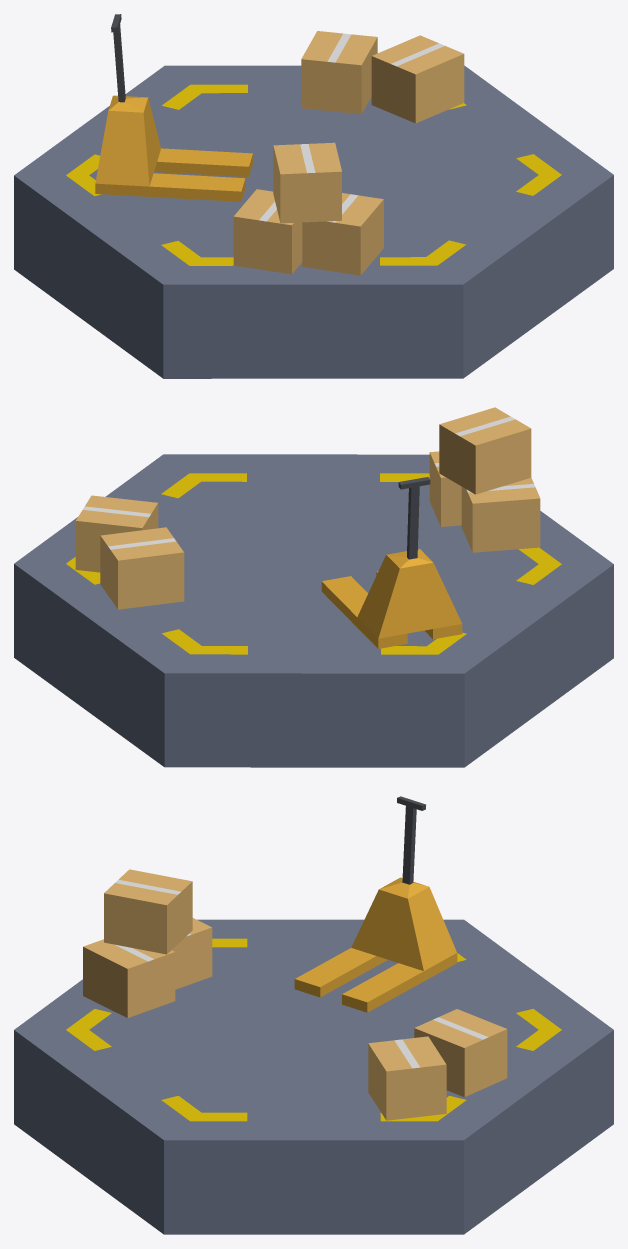
The model's file is RockHex_02.fbx.
3 views of the same model, one above another, from view 1: azimuth 30°, elevation 25°; view 2: azimuth 150°, elevation 25°; view 3: azimuth 270°, elevation 25° (orthographic).
Parts seen in each view (by area): view 1: RockHex_02; view 2: RockHex_02; view 3: RockHex_02.
Part boxes in pixels (x1,y1,x2,y2): RockHex_02: (14,14,613,378); RockHex_02: (14,407,613,767); RockHex_02: (14,796,613,1234).
Size of the model in its own units: 1 by 0.5313 by 1.15.
